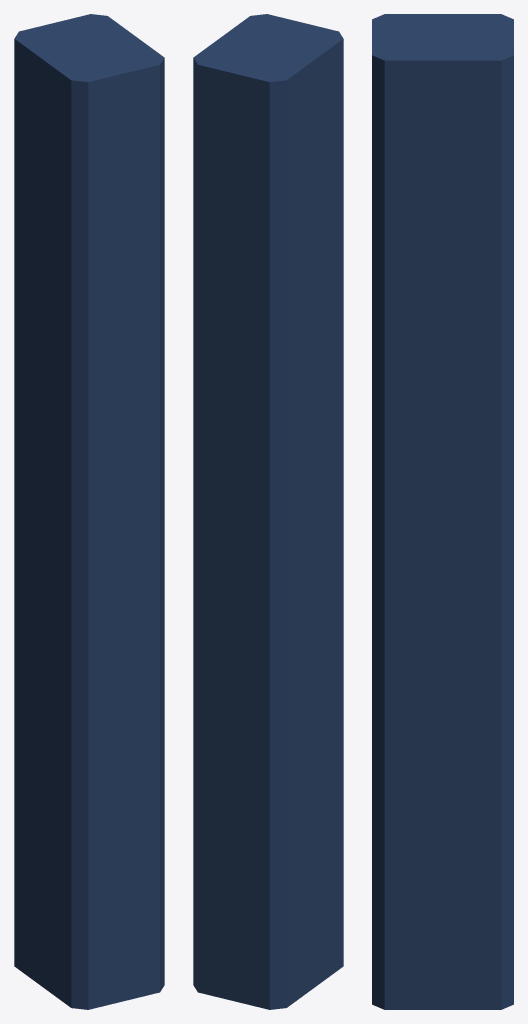
The model's file is SM_MM_N04_Body_01.fbx.
3 renders of one model, left to right at view 1: azimuth 30°, elevation 25°; view 2: azimuth 150°, elevation 25°; view 3: azimuth 270°, elevation 25°, orthographic. The views are drawn at different scales.
Visible parts, largest first — view 1: SM_MM_N04_Body_01; view 2: SM_MM_N04_Body_01; view 3: SM_MM_N04_Body_01.
Boxes of the visible parts, x1,y1,x2,y2 form: SM_MM_N04_Body_01: [14, 14, 164, 1009]; SM_MM_N04_Body_01: [193, 14, 343, 1009]; SM_MM_N04_Body_01: [372, 14, 513, 1009].
Size of the model in its own units: 14 by 18 by 133.
